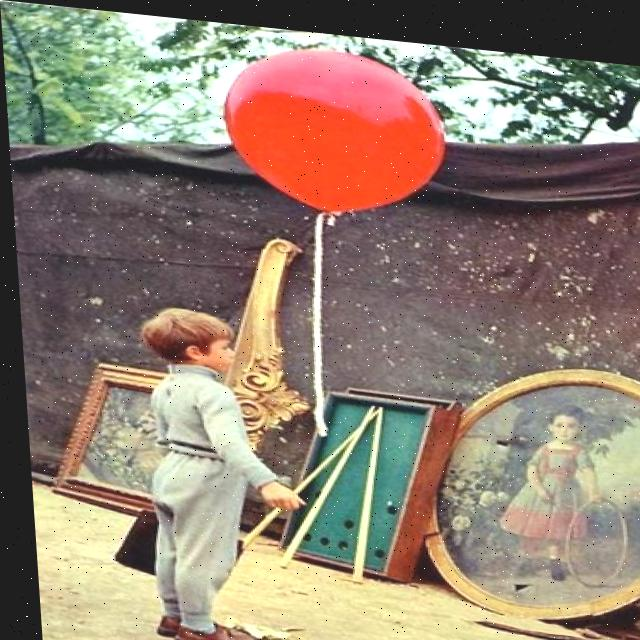balloon: (221, 32, 450, 229)
